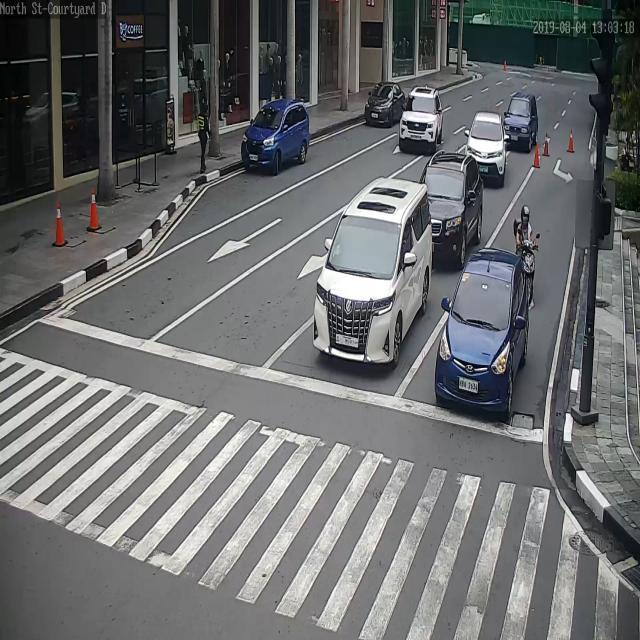car: (434, 247, 528, 415), (420, 148, 483, 268), (239, 97, 310, 175), (466, 109, 507, 184), (399, 87, 443, 151), (504, 93, 537, 149), (364, 80, 406, 124)
jeepney: (512, 201, 537, 309)
van: (312, 177, 434, 366)
